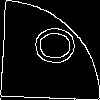O: (25, 24, 76, 66)
